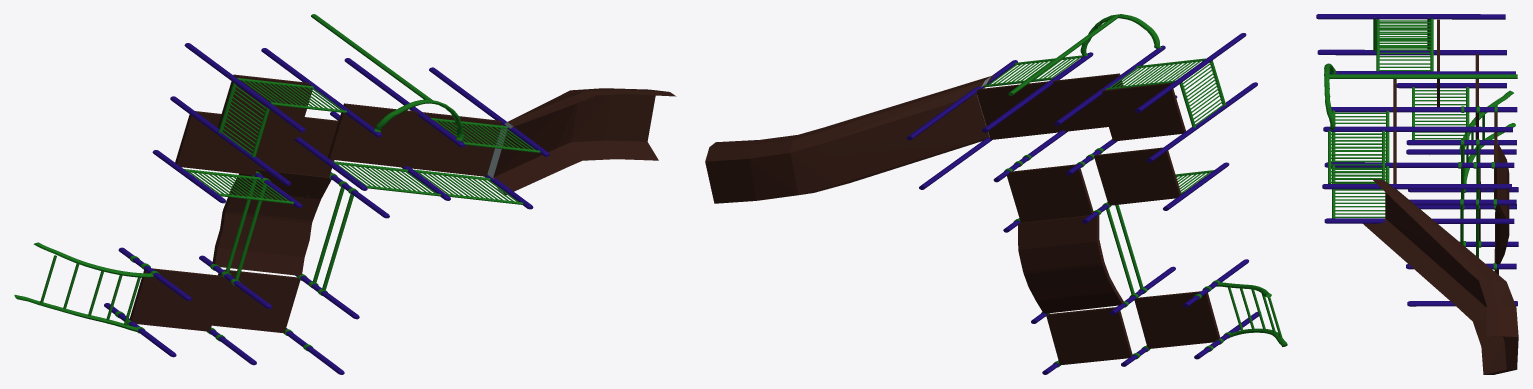
The model's file is playground.obj.
3 renders of one model, left to right at view 1: azimuth 30°, elevation 25°; view 2: azimuth 150°, elevation 25°; view 3: azimuth 270°, elevation 25°, orthographic. The views are drawn at different scales.
Parts seen in each view (by area): view 1: group98641283; view 2: group98641283; view 3: group98641283.
Boxes of the visible parts, bbox=[...] form: group98641283: bbox=[14, 14, 676, 374]; group98641283: bbox=[705, 14, 1287, 374]; group98641283: bbox=[1316, 14, 1518, 374].
Size of the model in its own units: 0.7528 by 0.3473 by 0.2511.
